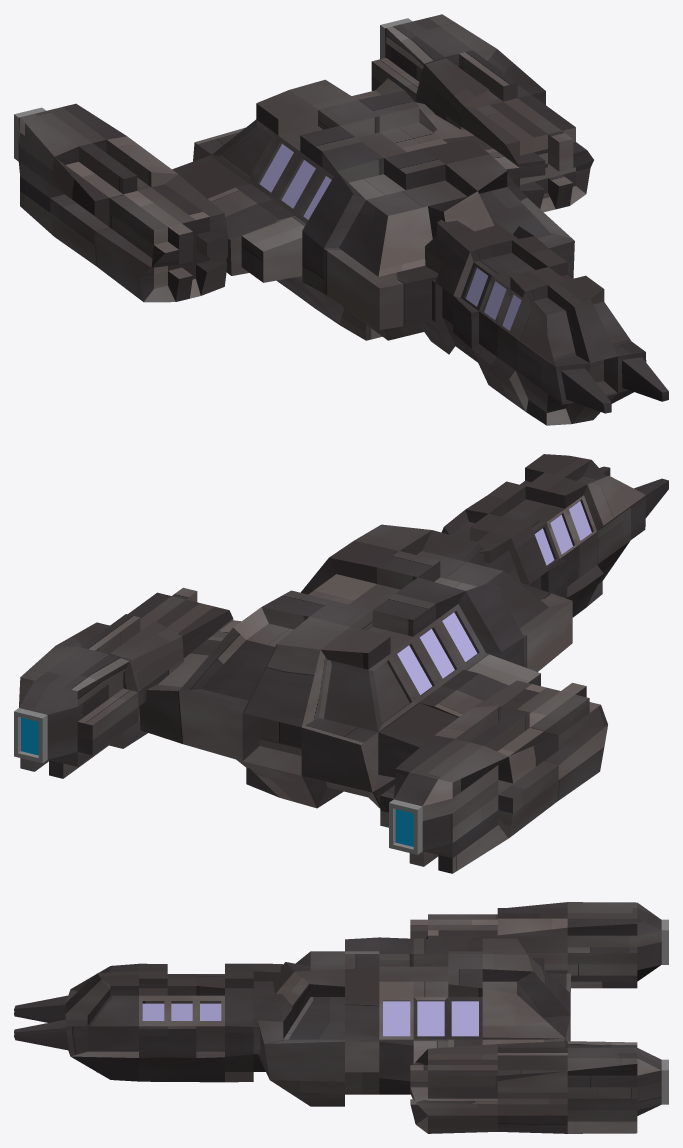
File: spaceship2.glb
3 views of the same model, one above another, from view 1: azimuth 30°, elevation 25°; view 2: azimuth 150°, elevation 25°; view 3: azimuth 270°, elevation 25° (orthographic). The views are drawn at different scales.
Visible parts, largest first — view 1: Spaceship2; view 2: Spaceship2; view 3: Spaceship2.
Part boxes in pixels (left/top/right/bottom): Spaceship2: left=14, top=14, right=668, bottom=425; Spaceship2: left=14, top=454, right=668, bottom=873; Spaceship2: left=14, top=902, right=668, bottom=1133.
Bounding box in the file's own units: 5.41 × 1.8 × 8.68.
1 material, 1 textured.
